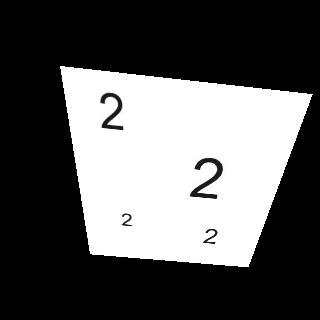two: (183, 154, 231, 202), (93, 91, 133, 131), (119, 211, 138, 230), (202, 228, 221, 247)
